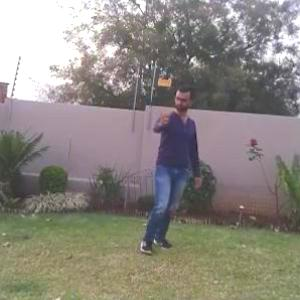takeoff-hand: (154, 103, 175, 131)
